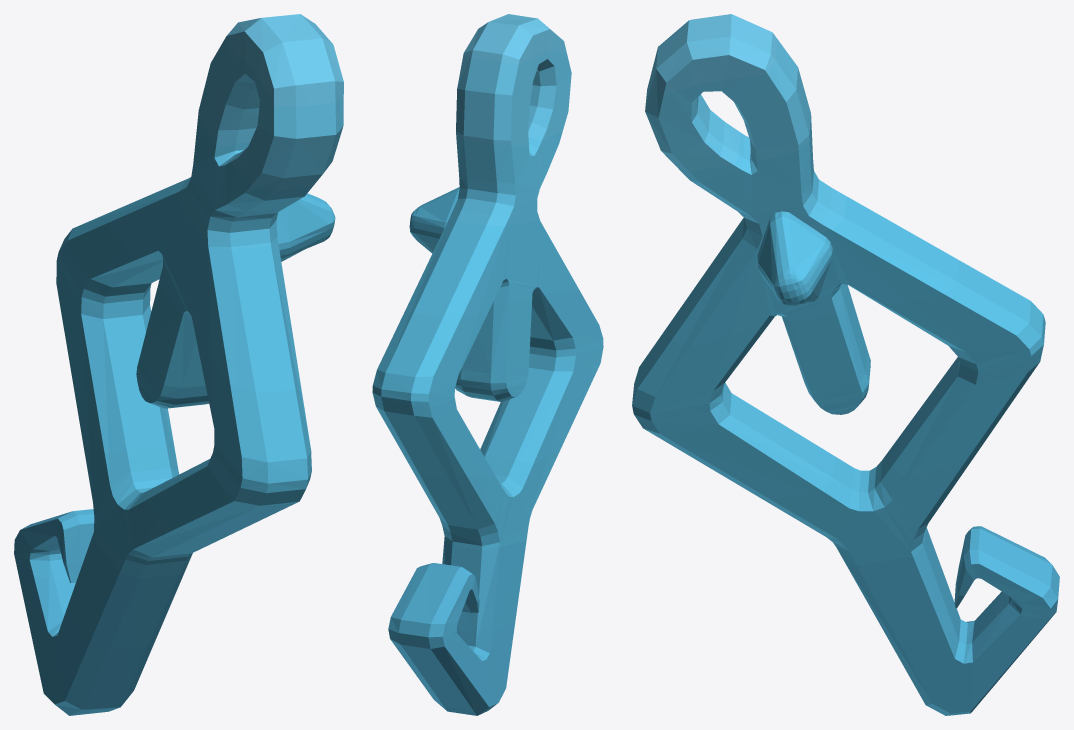
Rendered from CharSkyKid_Horn_MusicNote_02.glb.
3 views of the same model, side by side, from view 1: azimuth 30°, elevation 25°; view 2: azimuth 150°, elevation 25°; view 3: azimuth 270°, elevation 25° (orthographic). The views are drawn at different scales.
Parts seen in each view (by area): view 1: CharSkyKid_Horn_MusicNote_02; view 2: CharSkyKid_Horn_MusicNote_02; view 3: CharSkyKid_Horn_MusicNote_02.
Part boxes in pixels (bbox=[...]): CharSkyKid_Horn_MusicNote_02: bbox=[14, 14, 343, 715]; CharSkyKid_Horn_MusicNote_02: bbox=[372, 14, 603, 715]; CharSkyKid_Horn_MusicNote_02: bbox=[632, 14, 1059, 715].
Bounding box in the file's own units: 0.35 × 1.33 × 0.7188.
Materials: 1 (1 with a texture image).
